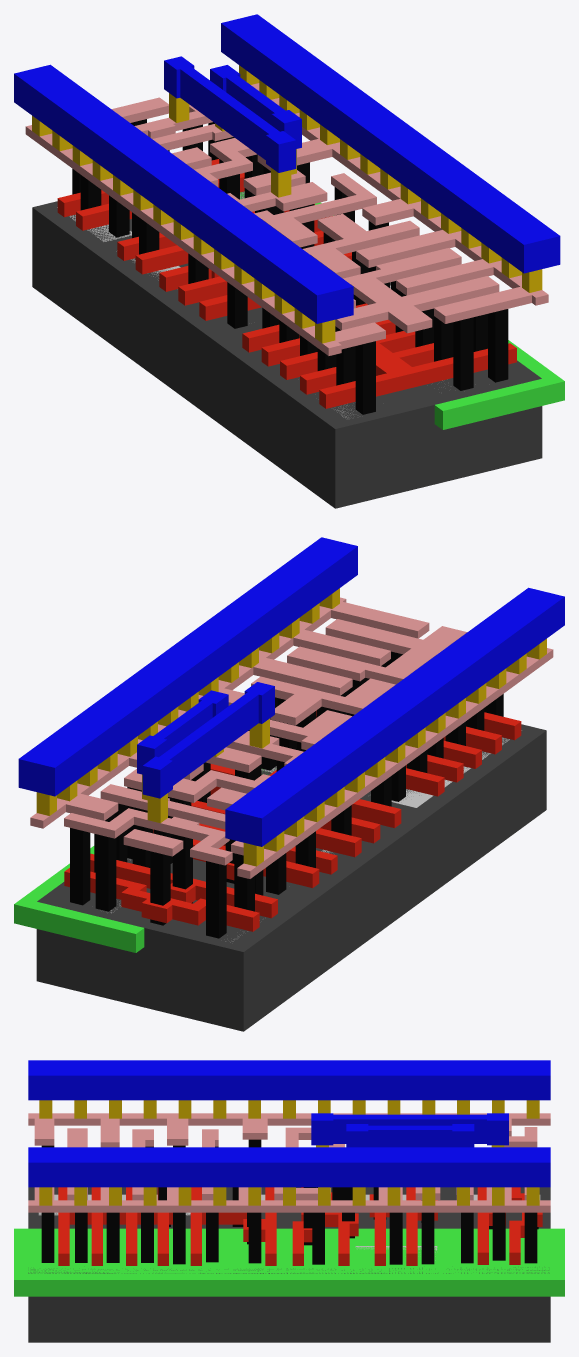
Rendered from sky130_fd_sc_hd__dlxtn_4.obj.
The picture shows the model from 3 angles, top to bottom: view 1: azimuth 30°, elevation 25°; view 2: azimuth 150°, elevation 25°; view 3: azimuth 270°, elevation 25°; orthographic projection. The views are drawn at different scales.
Visible parts, largest first — view 1: metal1, subs, li, licon, poly, mcon, nwell; view 2: metal1, subs, li, licon, poly, mcon, nwell; view 3: metal1, subs, nwell, li, poly, licon, mcon.
Part boxes in pixels (x1,y1,x2,y2): metal1: (14,14,560,323); subs: (32,191,542,508); li: (25,83,548,355); licon: (72,119,508,414); poly: (57,159,516,408); mcon: (32,65,542,343); nwell: (240,191,564,429); metal1: (18,537,564,846); subs: (36,724,546,1031); li: (30,597,553,878); licon: (70,651,503,938); poly: (64,710,521,931); mcon: (36,588,546,866); nwell: (14,769,267,952); metal1: (28,1060,550,1187); subs: (28,1187,550,1342); nwell: (14,1228,564,1296); li: (28,1113,550,1212); poly: (58,1187,542,1265); licon: (41,1139,538,1264); mcon: (39,1100,539,1205).
Bounding box in the file's own units: 3.2 × 2.74 × 7.28.
